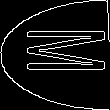M_E: (5, 32, 105, 78)
